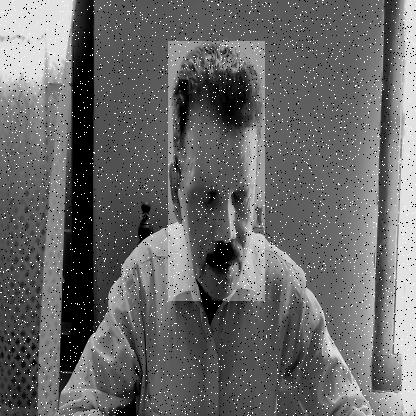Normal: (168, 41, 265, 302)
